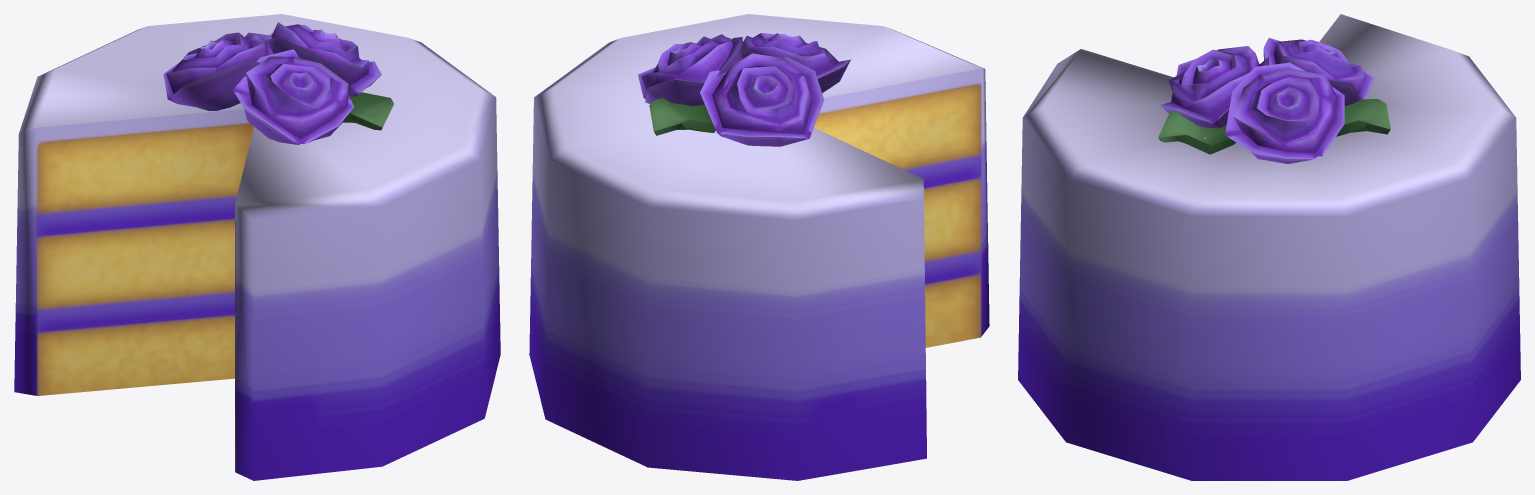
Rendered from RoseCake_Cut.fbx.
3 views of the same model, side by side, from view 1: azimuth 30°, elevation 25°; view 2: azimuth 150°, elevation 25°; view 3: azimuth 270°, elevation 25° (orthographic).
Visible parts, largest first — view 1: RoseCake_Cut; view 2: RoseCake_Cut; view 3: RoseCake_Cut.
Part boxes in pixels (box(x1,y1,x2,y2)): RoseCake_Cut: box(14, 14, 500, 480); RoseCake_Cut: box(529, 14, 989, 480); RoseCake_Cut: box(1018, 14, 1520, 480).
Bounding box in the file's own units: 76.8 × 59.59 × 81.5.
